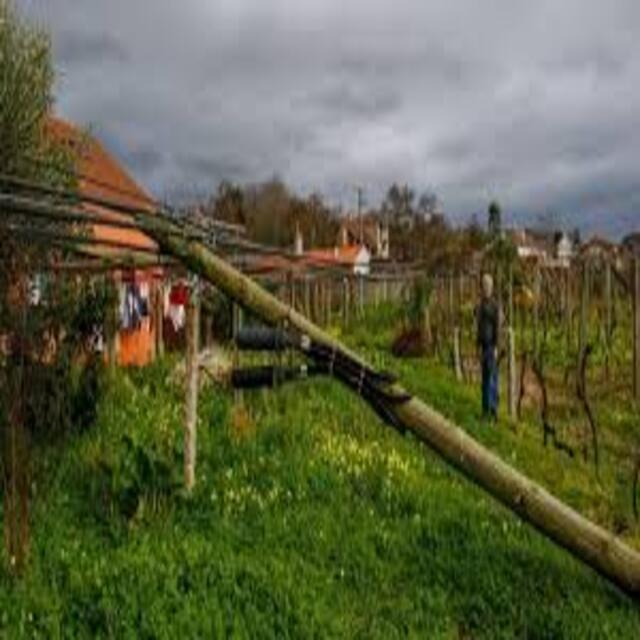Inclined Pole: (130, 207, 639, 610)
